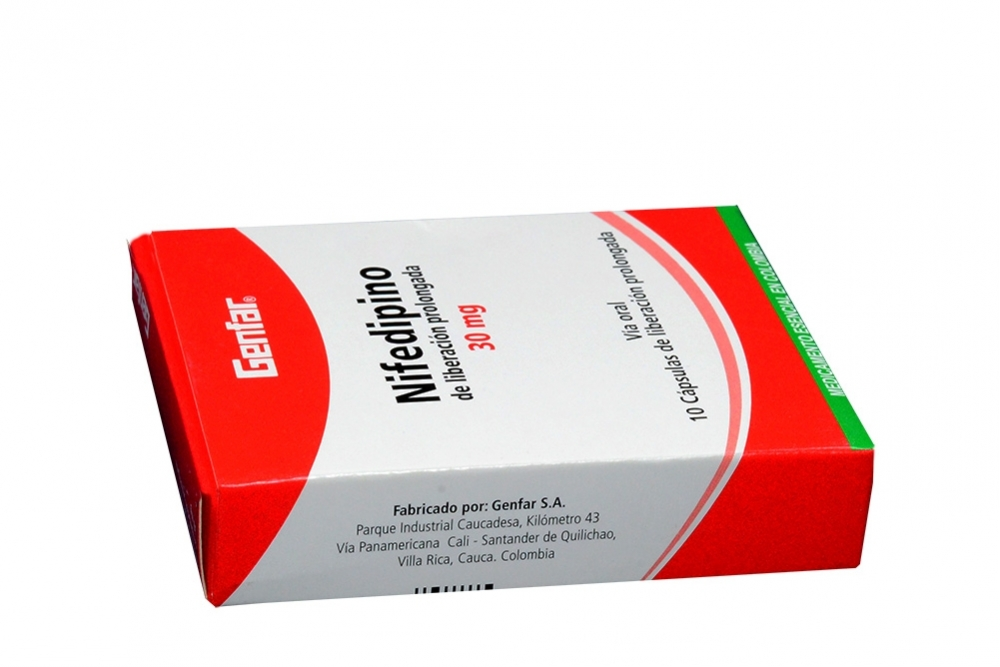Genfar: (158, 209, 870, 480)
